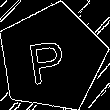P_N: (30, 30, 74, 85)
